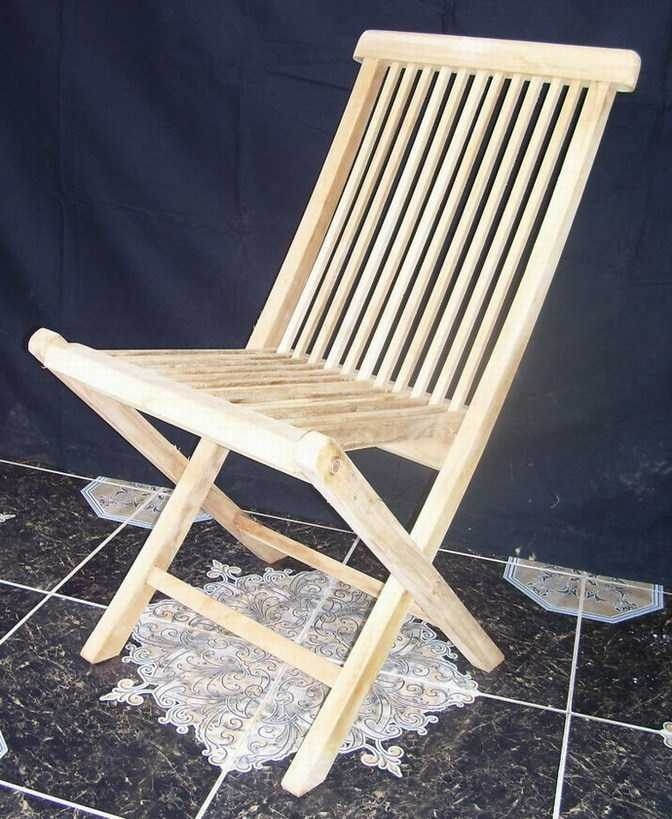obstacle: (29, 31, 639, 668)
